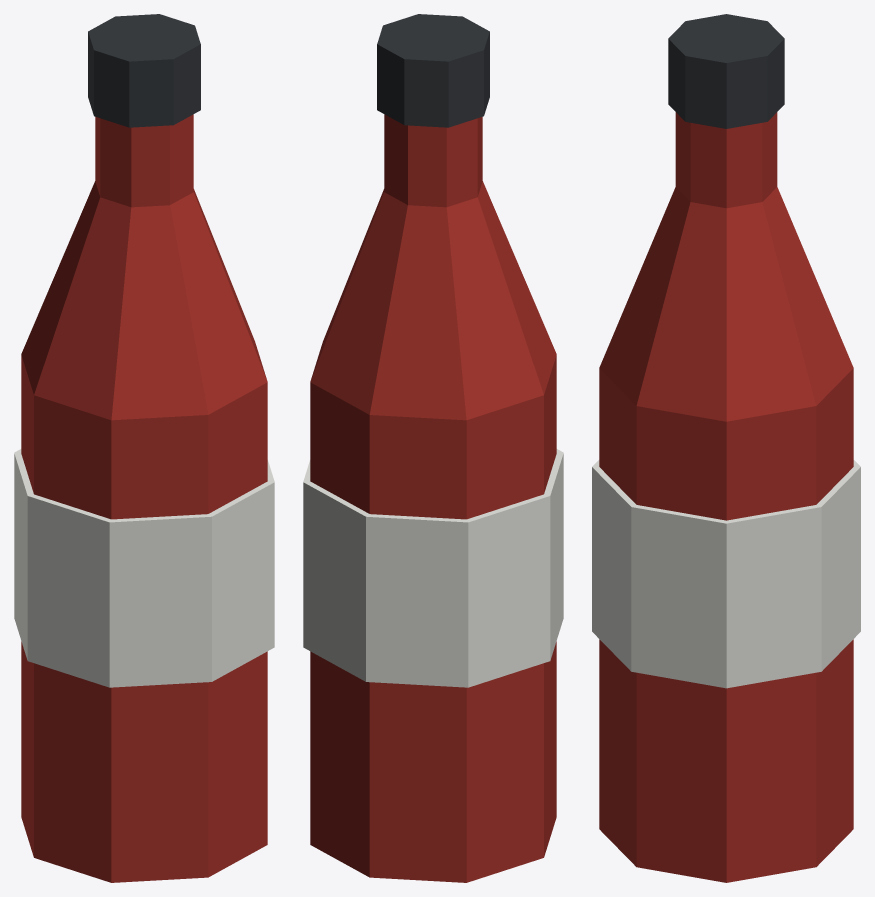
The model's file is bouteille_soda.glb.
The picture shows the model from 3 angles, left to right: view 1: azimuth 30°, elevation 25°; view 2: azimuth 150°, elevation 25°; view 3: azimuth 270°, elevation 25°; orthographic projection.
Visible parts, largest first — view 1: body, label, cap; view 2: body, label, cap; view 3: body, label, cap.
Part boxes in pixels (x1,y1,x2,y2): body: (21,114,267,882); label: (14,449,274,687); cap: (88,14,200,127); body: (310,114,556,882); label: (303,449,563,687); cap: (377,14,489,127); body: (599,112,853,882); label: (592,460,860,688); cap: (668,14,784,128).
Size of the model in its own units: 0.074 by 0.24 by 0.074.
3 materials, 3 textured.
